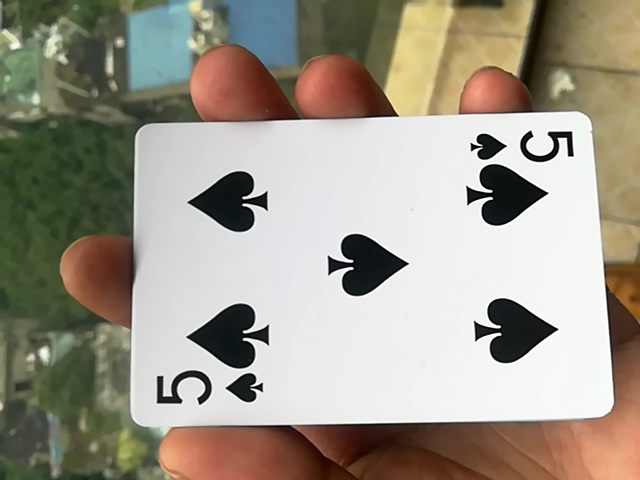ht 5: (112, 108, 615, 445)
